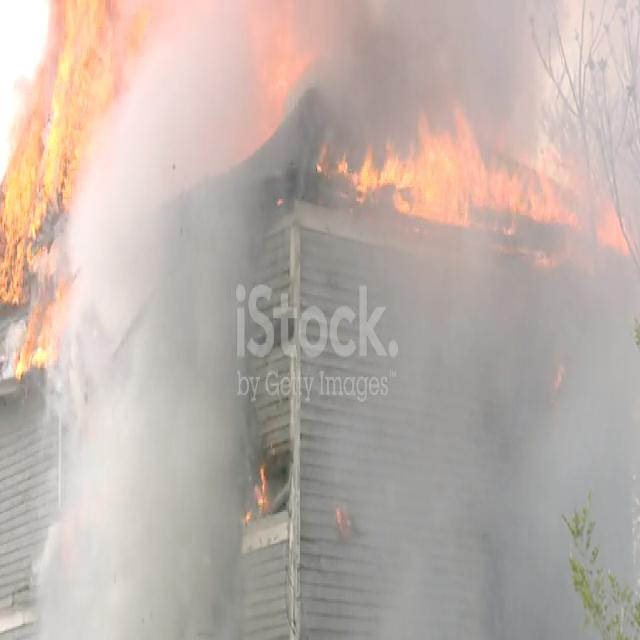fire: (0, 0, 129, 290), (355, 75, 549, 226), (231, 0, 330, 138)
smoke: (434, 231, 558, 571), (79, 300, 200, 563)
